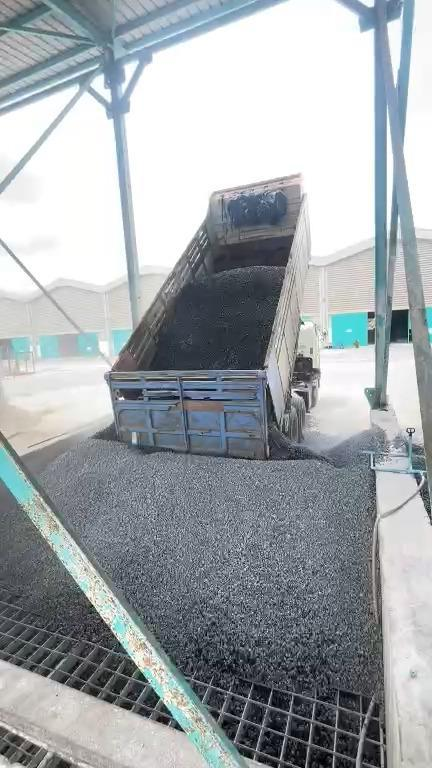gravel: (26, 425, 392, 692), (1, 484, 113, 642), (153, 268, 282, 369), (412, 444, 432, 521)
sand: (1, 382, 68, 453)
